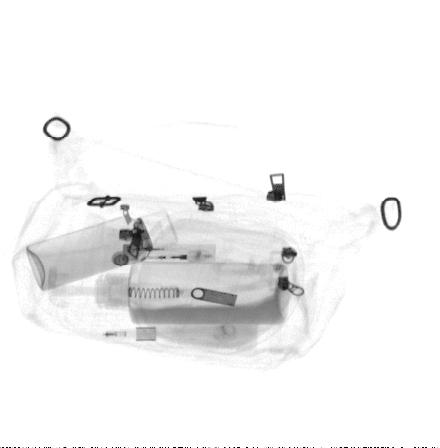Lighter: (125, 242, 217, 266)
Sprayer: (24, 210, 181, 292)
